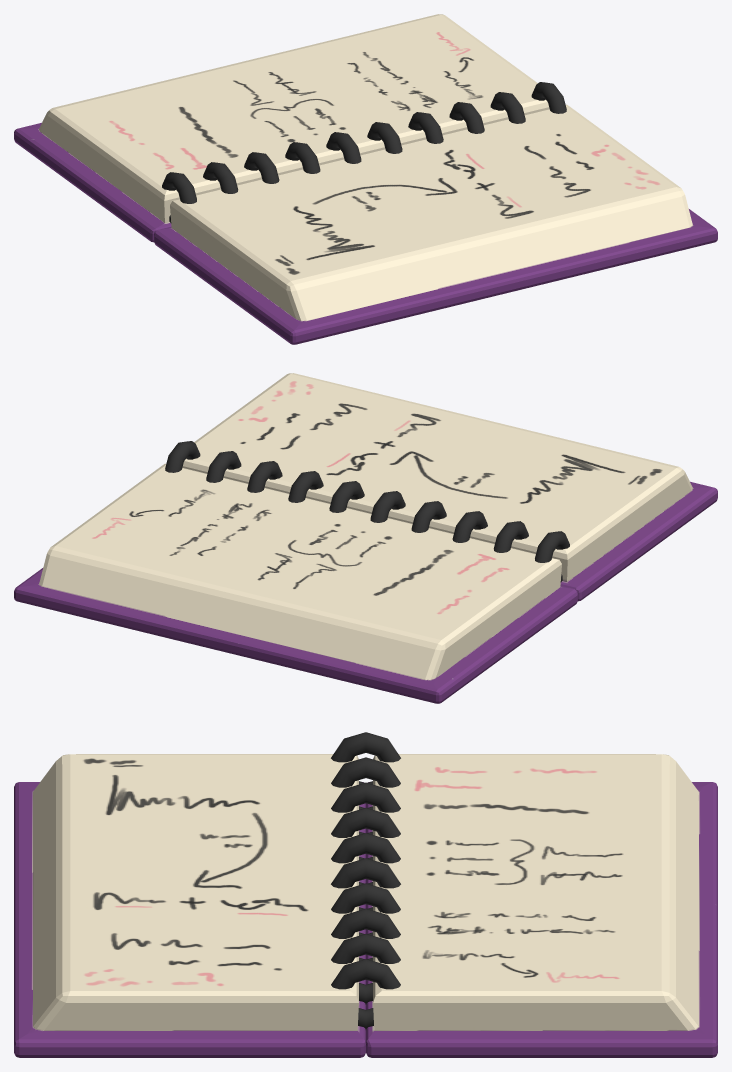
The model's file is OpenNotebook.fbx.
3 views of the same model, one above another, from view 1: azimuth 30°, elevation 25°; view 2: azimuth 150°, elevation 25°; view 3: azimuth 270°, elevation 25° (orthographic). The views are drawn at different scales.
Parts seen in each view (by area): view 1: Plane, Torus; view 2: Plane, Torus; view 3: Plane, Torus.
Boxes of the visible parts, box(x1,y1,x2,y2) form: Plane: box(14, 14, 717, 344); Torus: box(162, 82, 566, 223); Plane: box(14, 373, 717, 703); Torus: box(165, 441, 569, 582); Plane: box(14, 754, 717, 1057); Torus: box(331, 732, 400, 1029).
Size of the model in its own units: 40.01 by 35.28 by 5.11.
